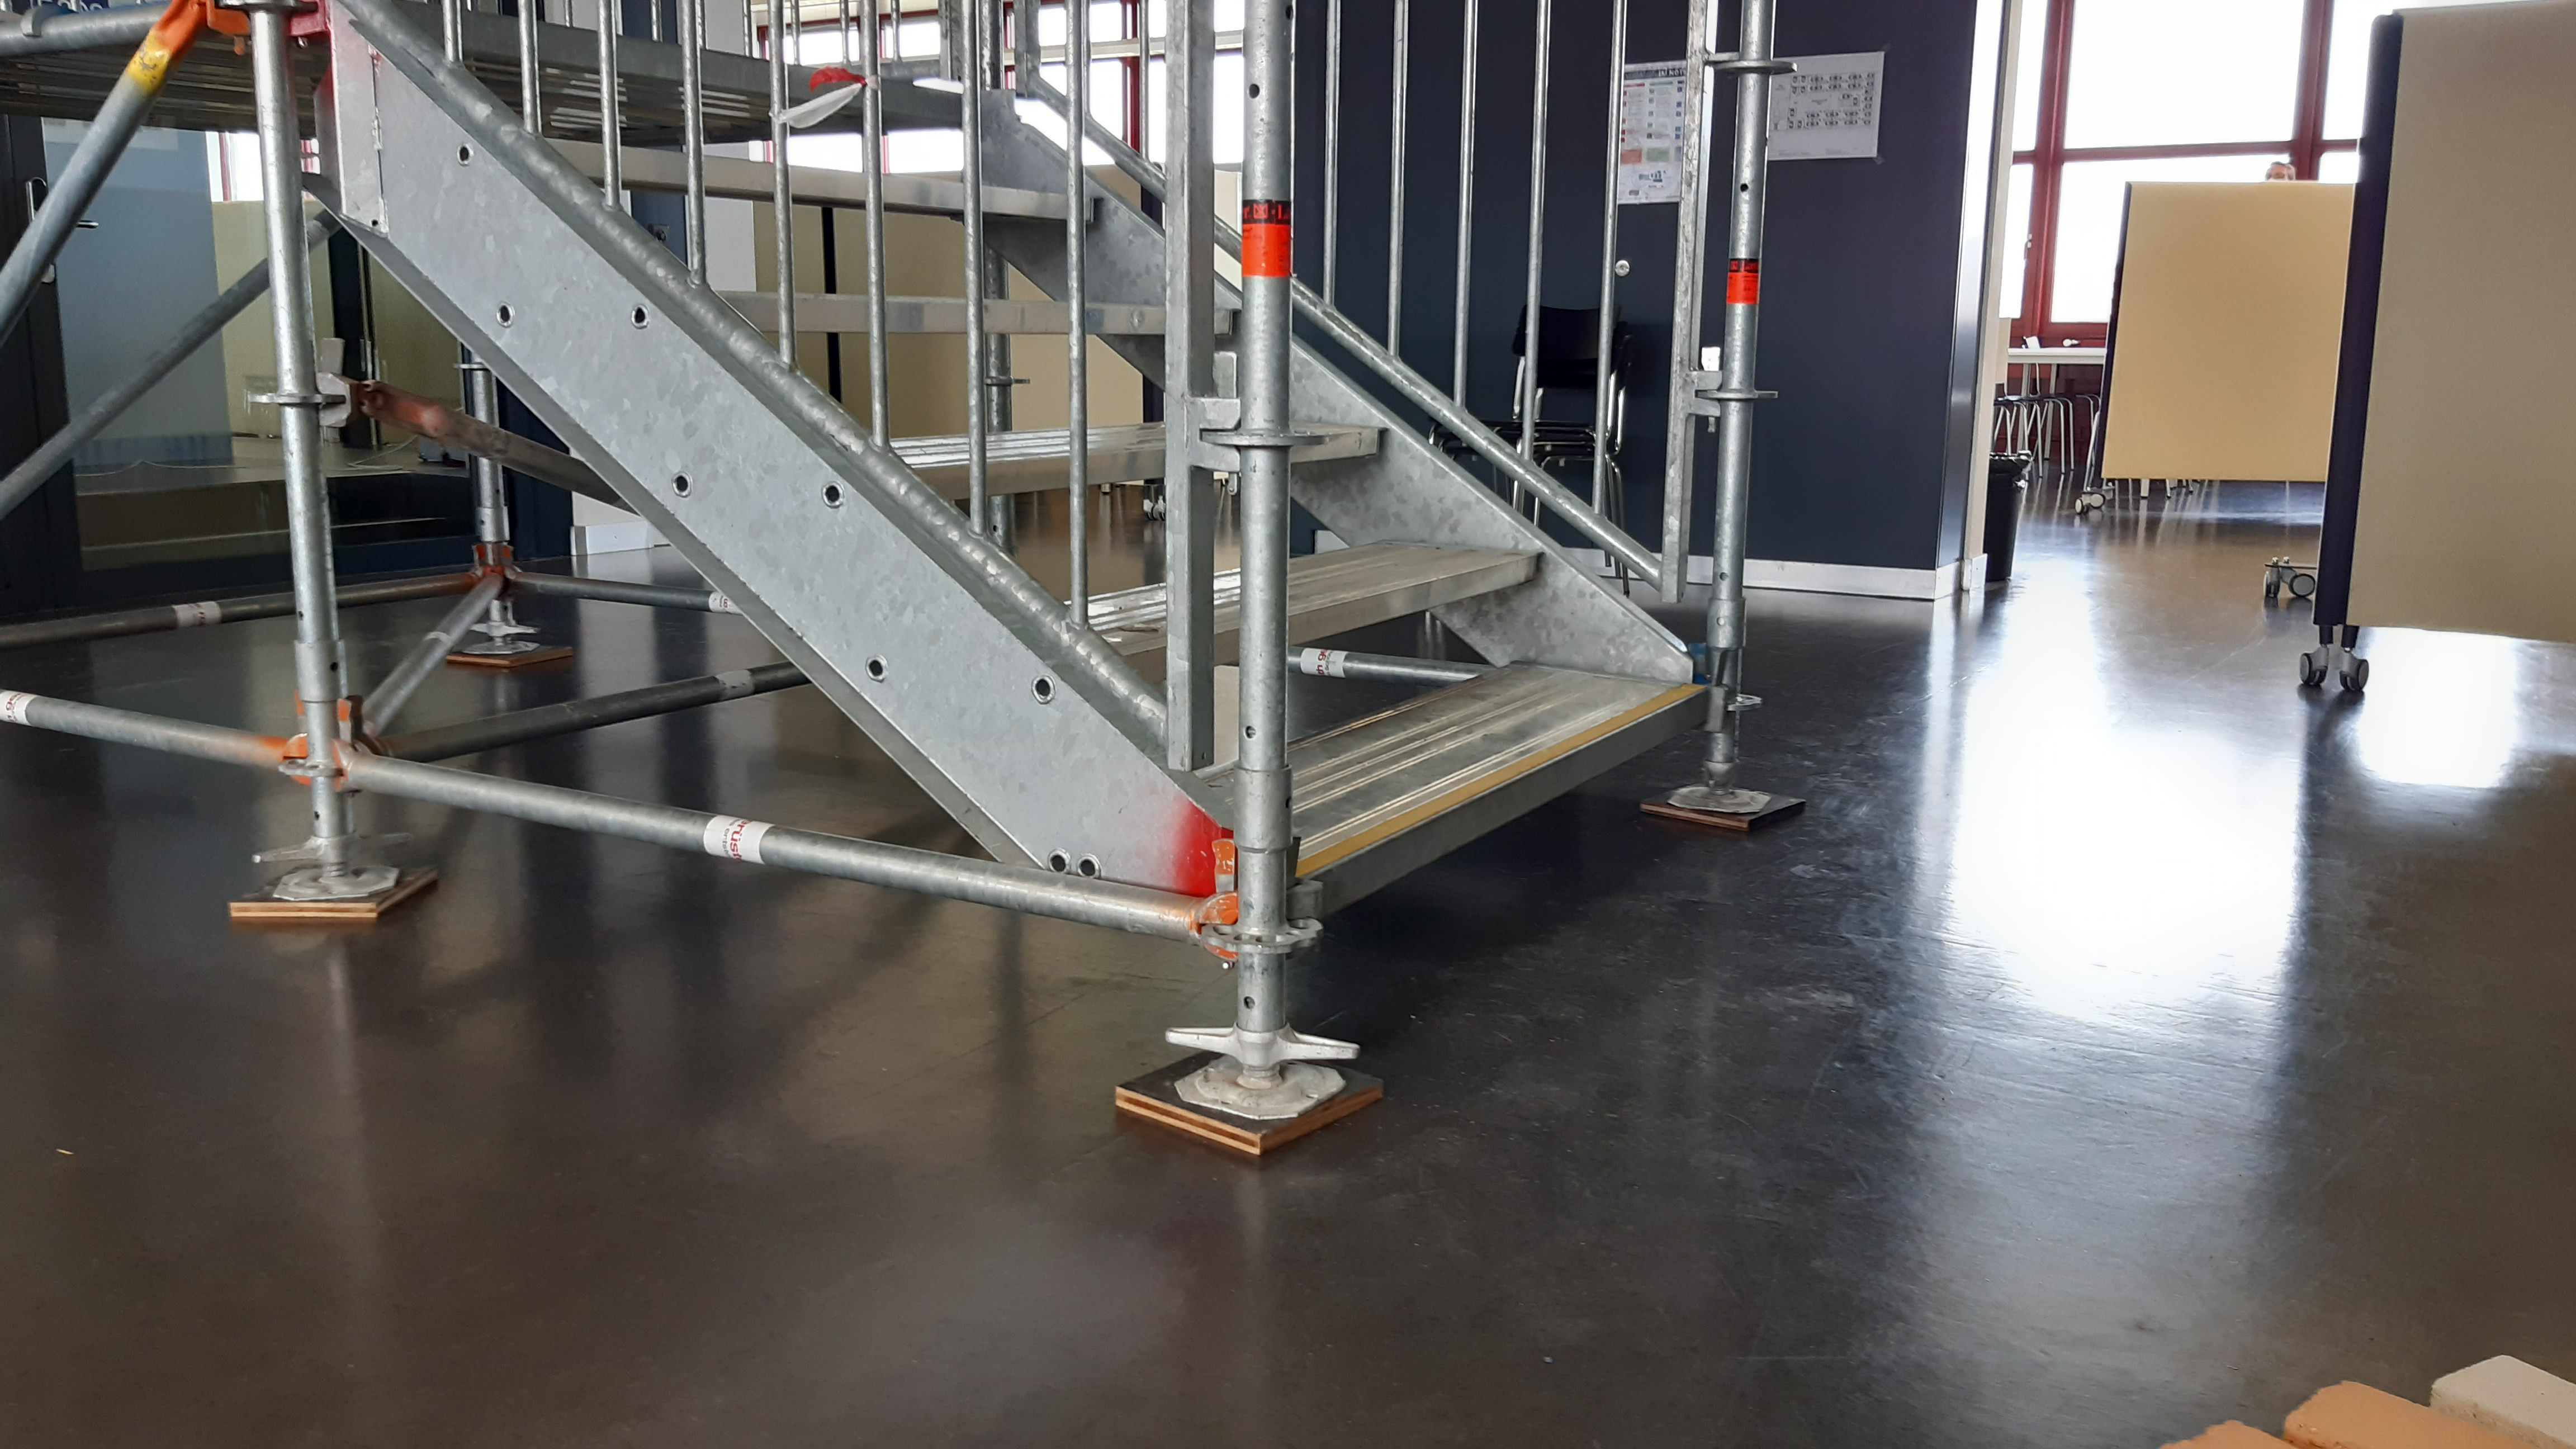edge: (1290, 685, 1704, 924)
stairs: (1242, 4, 1805, 1166)
